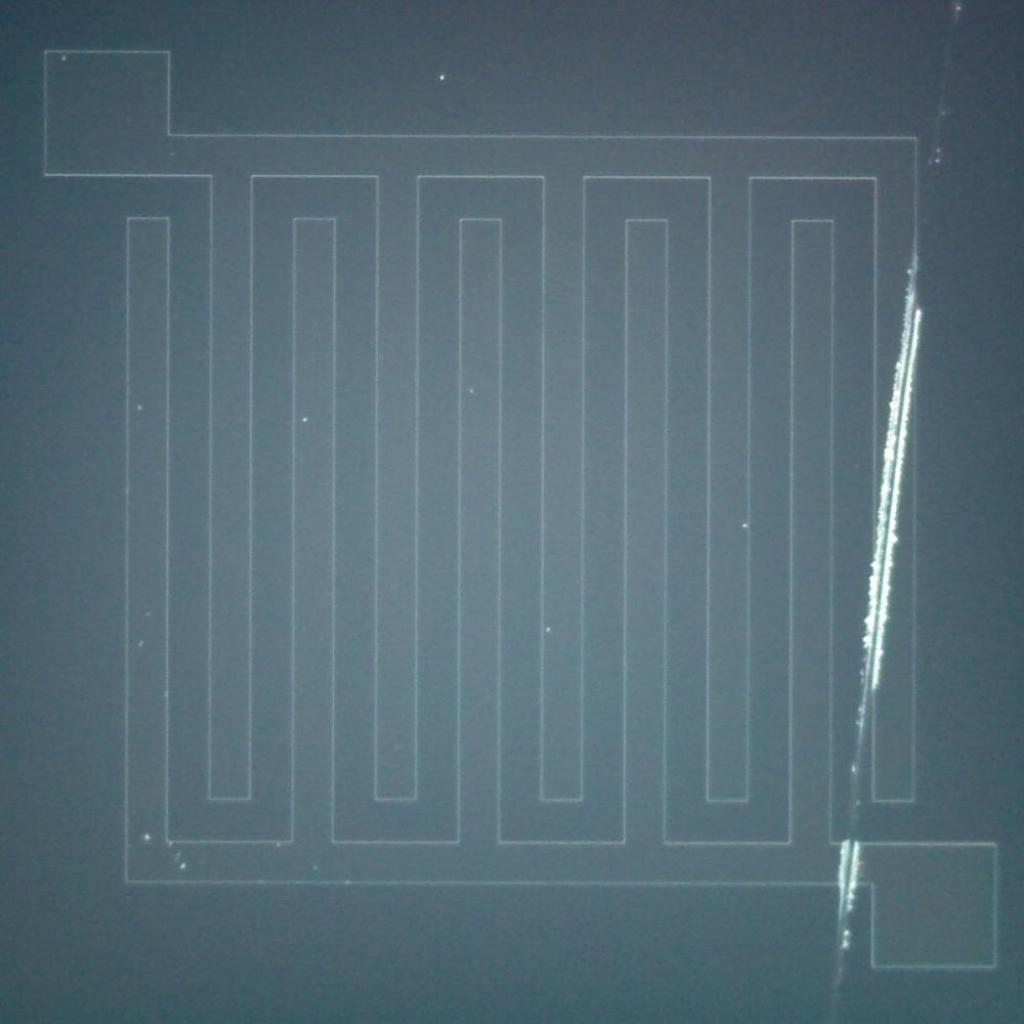dot: (180, 862, 186, 870), (136, 404, 142, 410), (138, 640, 144, 646), (144, 834, 150, 840), (742, 524, 748, 529), (62, 56, 66, 62), (470, 390, 474, 394), (303, 418, 307, 422), (546, 627, 550, 631), (440, 76, 444, 80)
straight: (884, 346, 924, 386), (891, 307, 930, 347), (826, 846, 866, 884), (826, 885, 866, 923), (858, 580, 898, 618), (892, 268, 930, 307), (854, 618, 893, 656), (866, 504, 904, 542), (881, 387, 920, 424), (876, 465, 913, 503), (862, 542, 900, 579), (876, 426, 912, 462), (855, 656, 890, 692), (837, 727, 872, 762), (838, 692, 872, 727)
